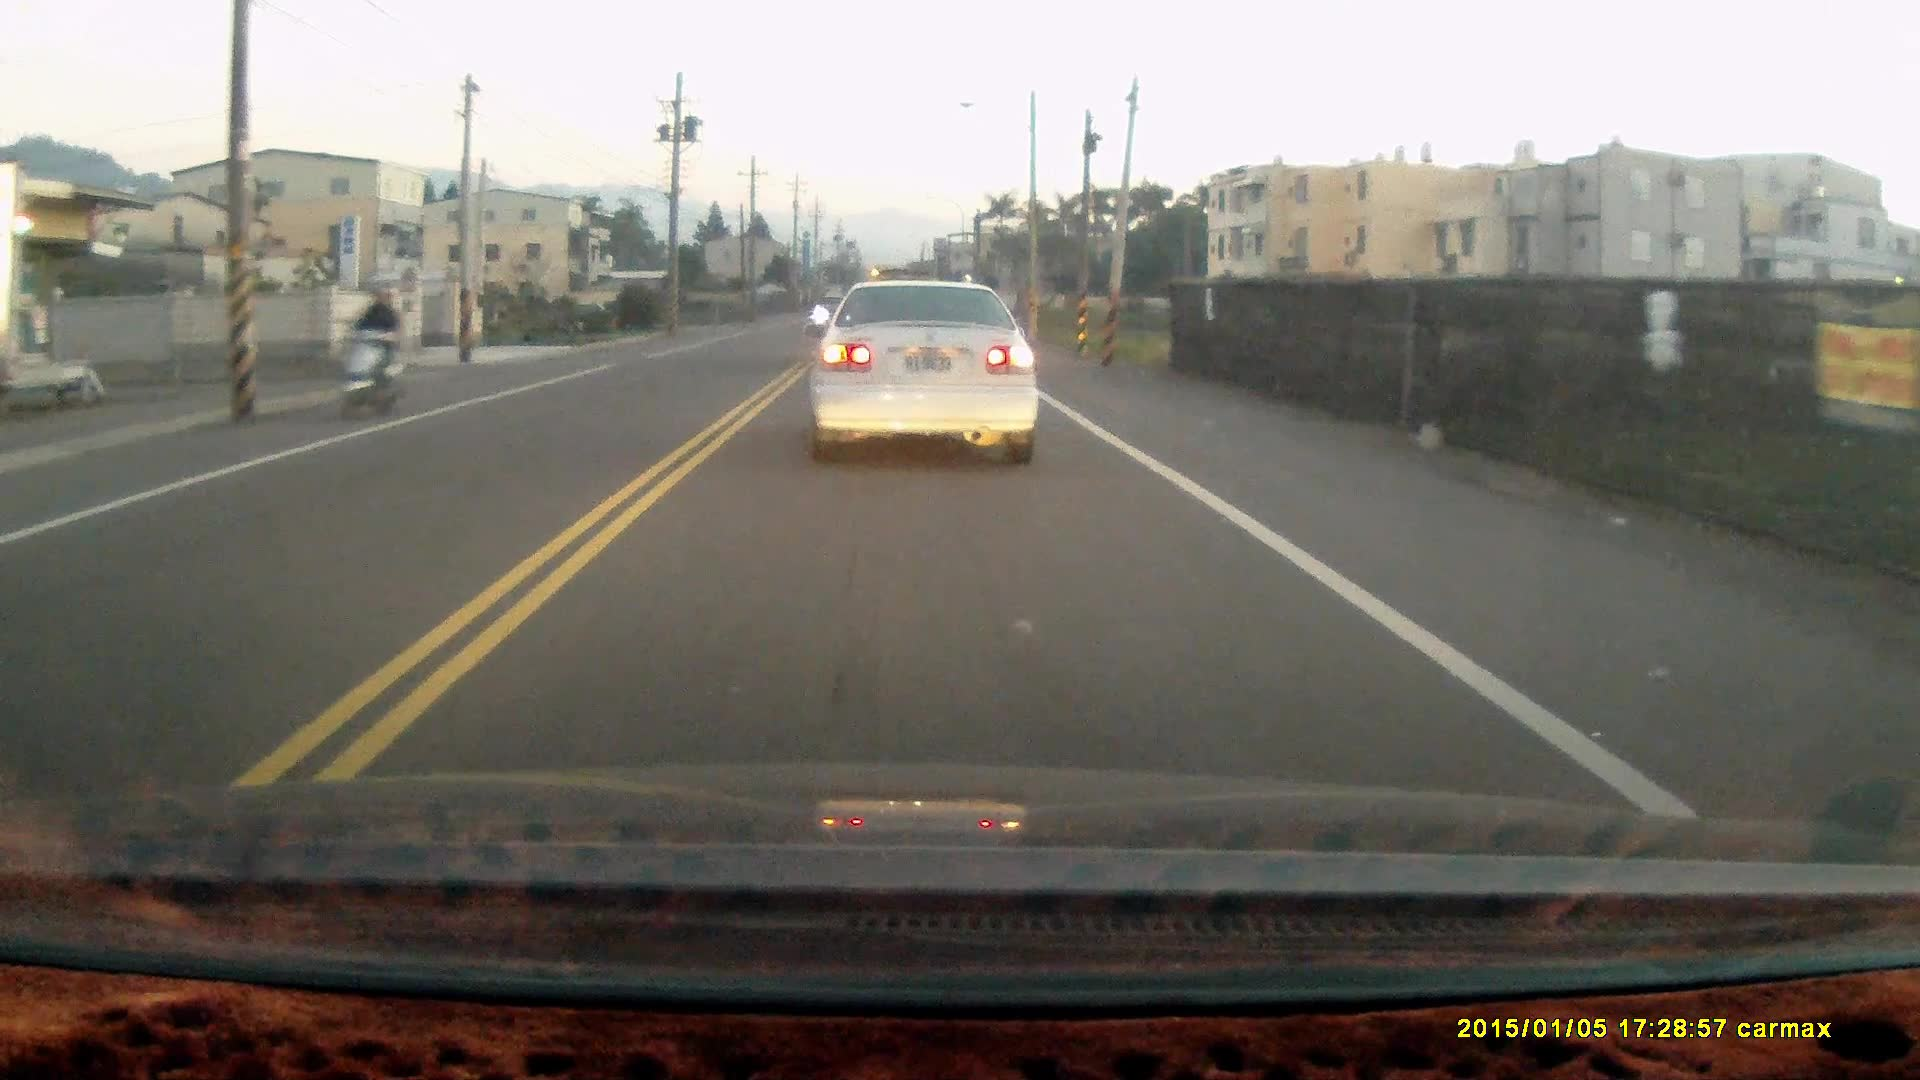rider: (328, 279, 407, 426)
vehicle: (803, 274, 1039, 464)
